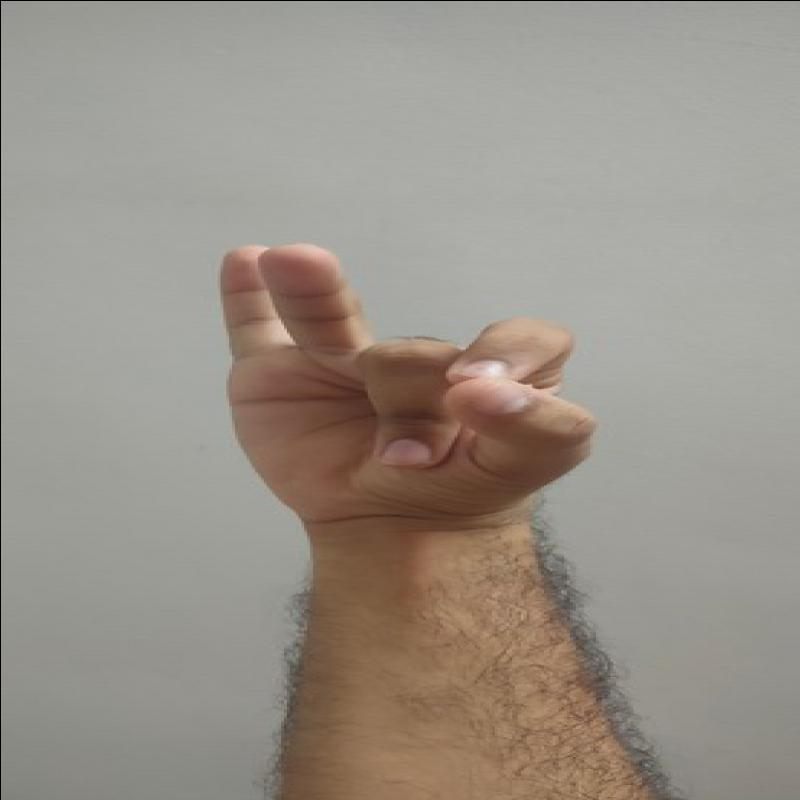Katakam: (195, 227, 606, 531)
